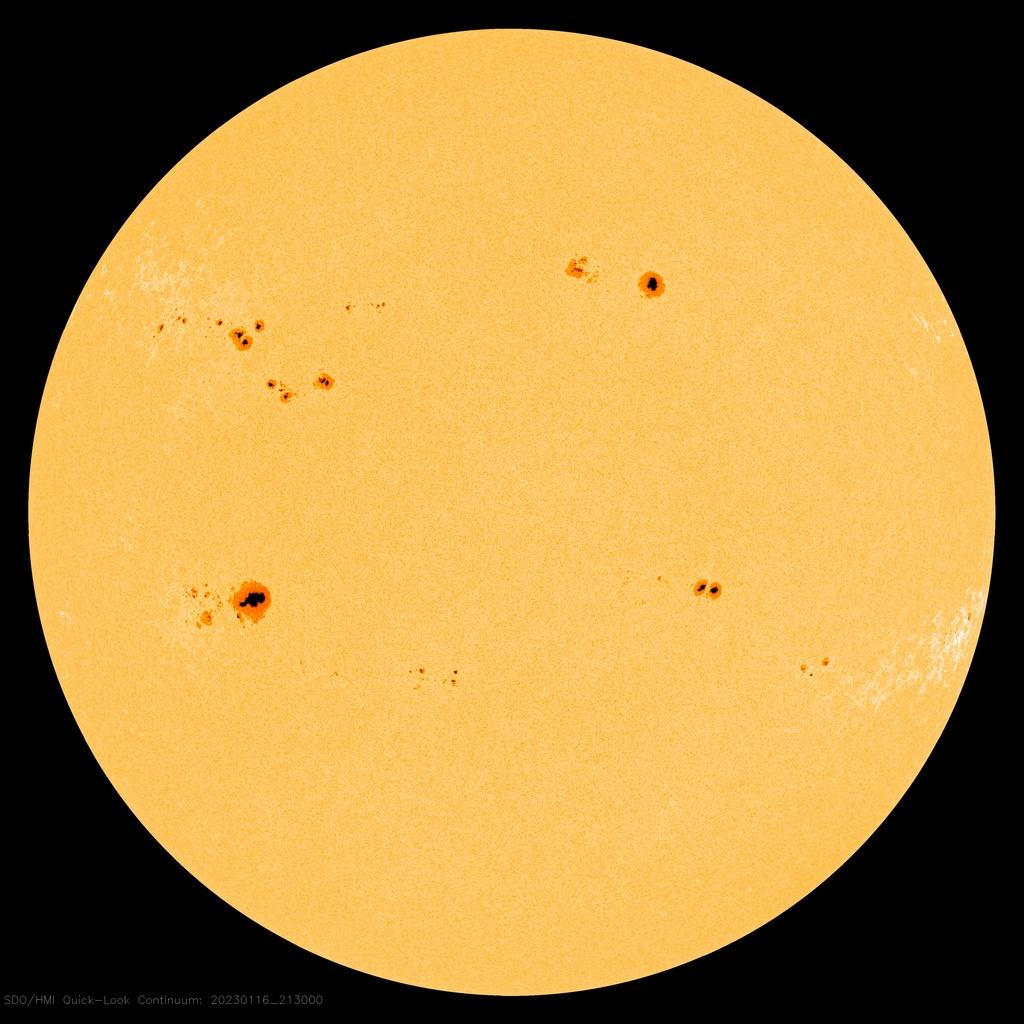flare: (152, 296, 399, 411), (558, 247, 677, 313), (180, 572, 285, 645), (402, 655, 476, 701), (685, 570, 730, 610), (792, 645, 839, 682)
